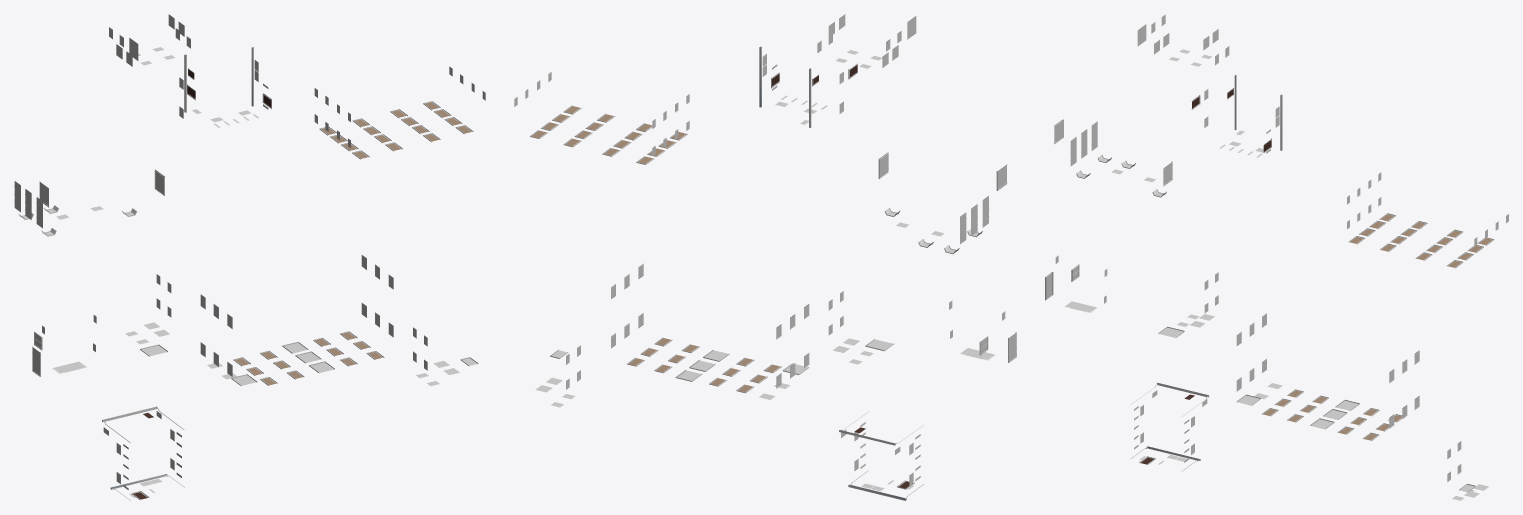
3 views of the same model, side by side, from view 1: azimuth 30°, elevation 25°; view 2: azimuth 150°, elevation 25°; view 3: azimuth 330°, elevation 25° (orthographic). The views are drawn at different scales.
Parts seen in each view (by area): view 1: SM_000285.001; view 2: SM_000285.001; view 3: SM_000285.001.
Part boxes in pixels (bbox=[...]): SM_000285.001: bbox=[14, 14, 485, 500]; SM_000285.001: bbox=[514, 14, 1016, 500]; SM_000285.001: bbox=[1045, 14, 1508, 500].
Size of the model in its own units: 66 by 64.13 by 10.57.
